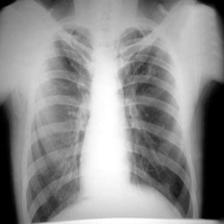tuberculosis: (19, 19, 196, 221)
